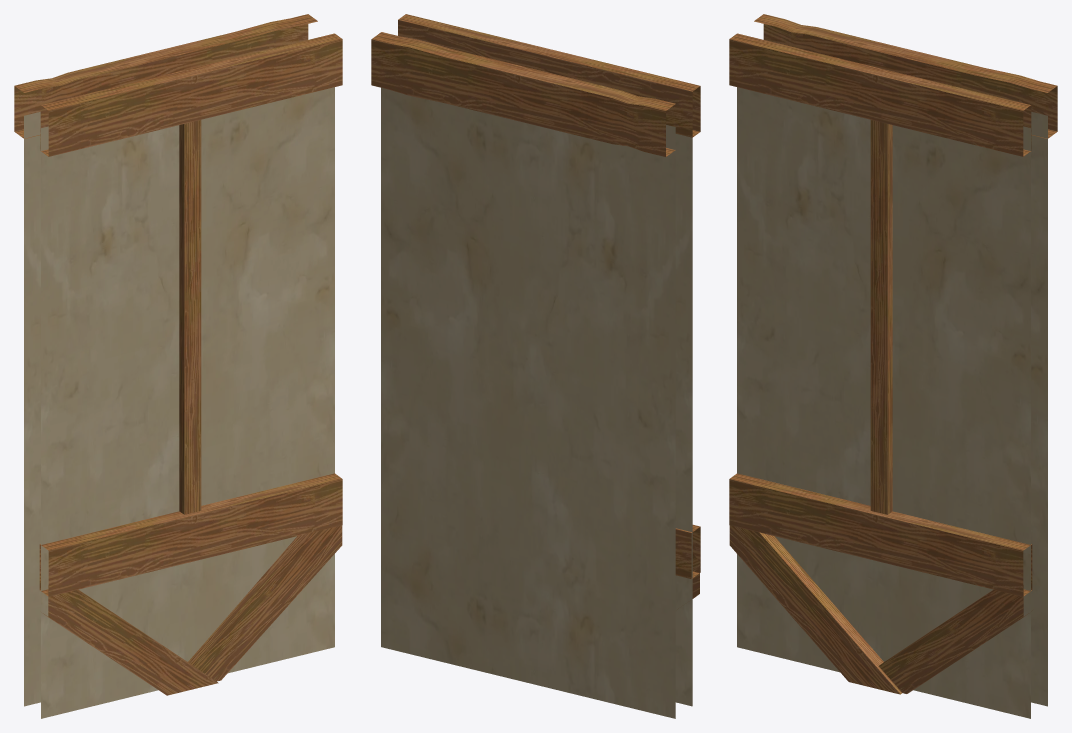
The model's file is med-parede-reboco.gltf.
The picture shows the model from 3 angles, left to right: view 1: azimuth 30°, elevation 25°; view 2: azimuth 150°, elevation 25°; view 3: azimuth 330°, elevation 25°; orthographic projection.
Parts seen in each view (by area): view 1: Wall_Plaster_Straight; view 2: Wall_Plaster_Straight; view 3: Wall_Plaster_Straight.
Part boxes in pixels (x1=…): Wall_Plaster_Straight: x1=14, y1=14, x2=342, y2=718; Wall_Plaster_Straight: x1=371, y1=14, x2=700, y2=718; Wall_Plaster_Straight: x1=729, y1=14, x2=1057, y2=718.
Bounding box in the file's own units: 1 × 2 × 0.2033.
2 materials, 2 textured.
